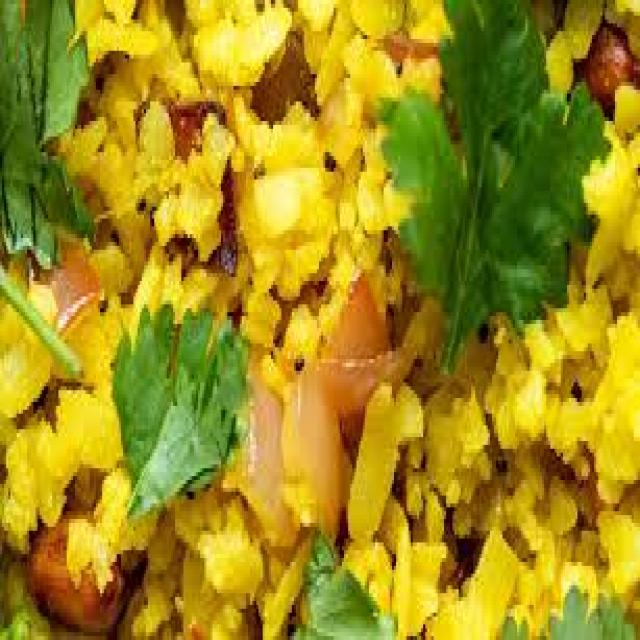POHA: (2, 0, 638, 636)
